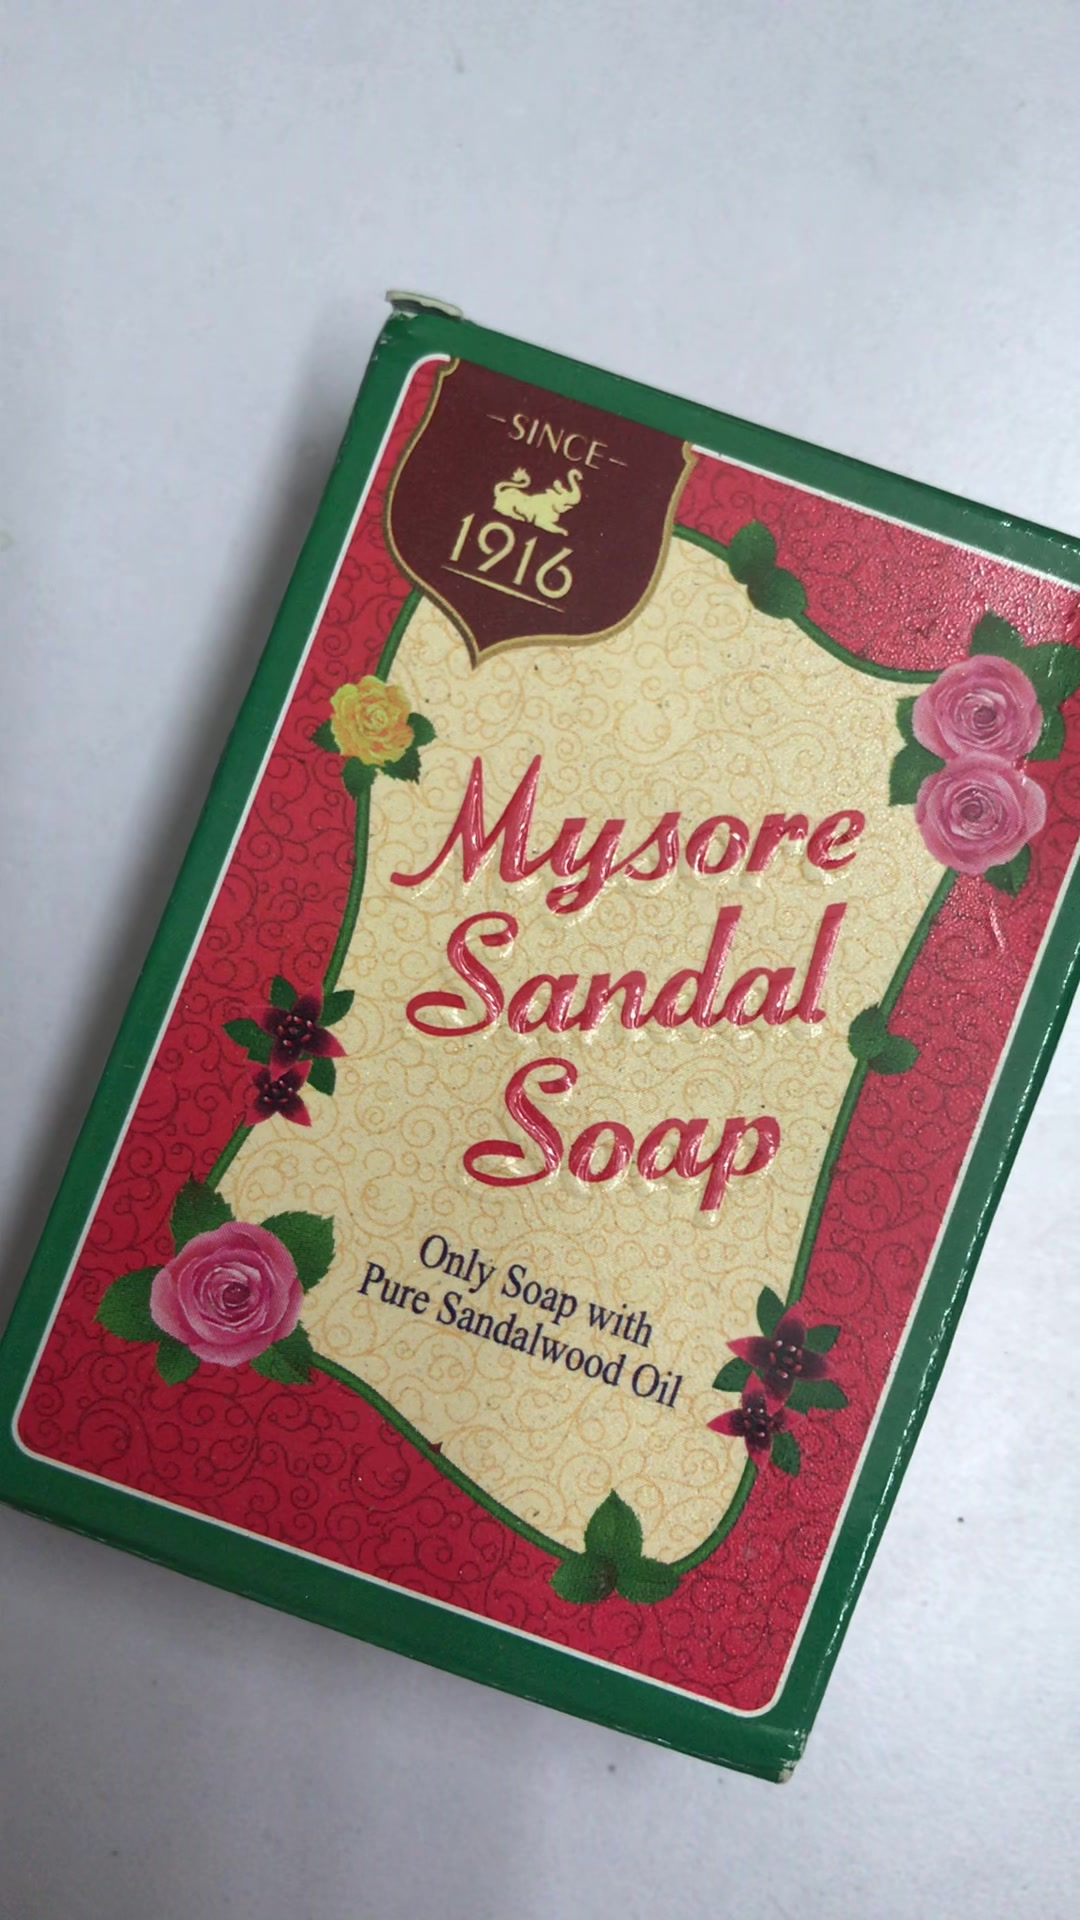mysore sandal soap: (9, 306, 1080, 1778)
